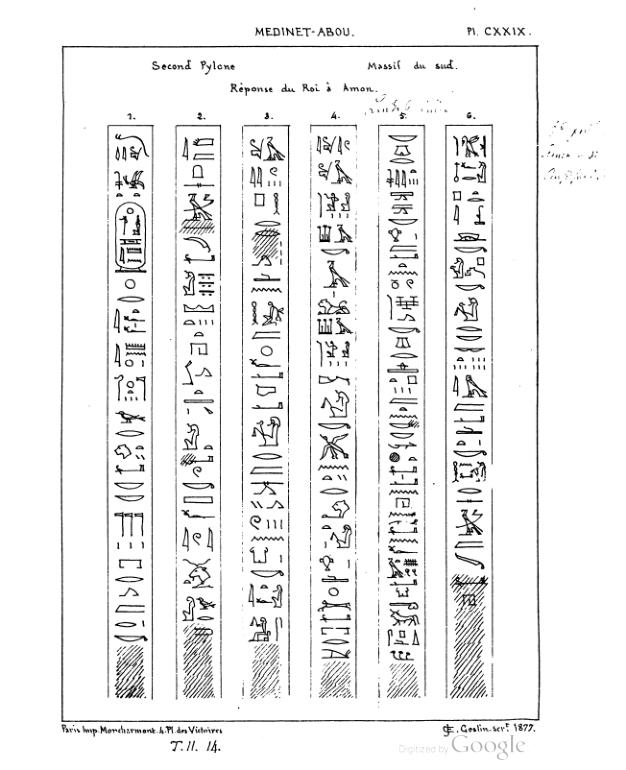circle: (109, 200, 153, 277)
